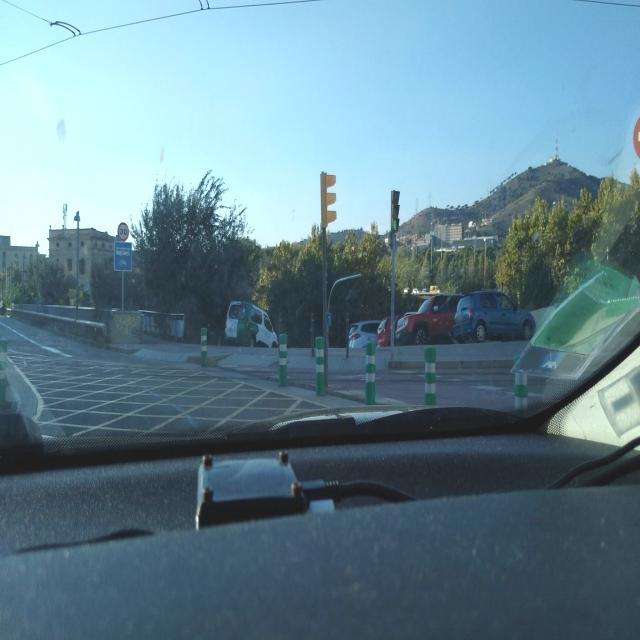car: (452, 288, 536, 343), (394, 292, 466, 346), (346, 319, 383, 352), (375, 315, 403, 346)
